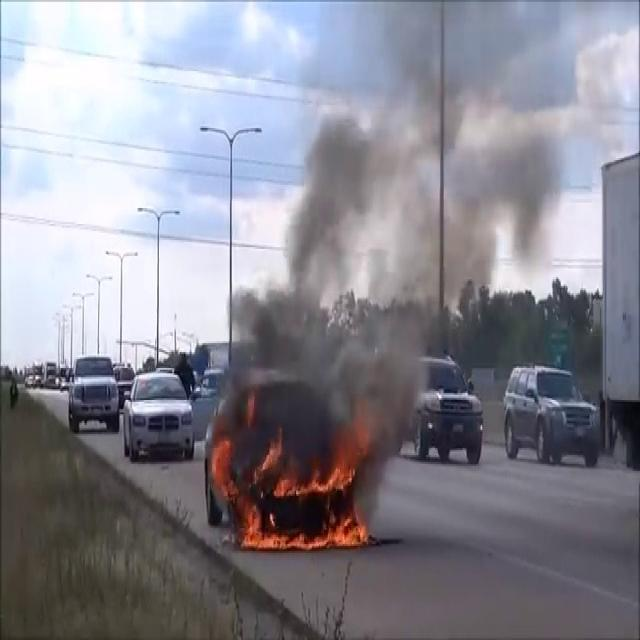Fire: (220, 443, 370, 553)
Smoke: (220, 2, 588, 456)
